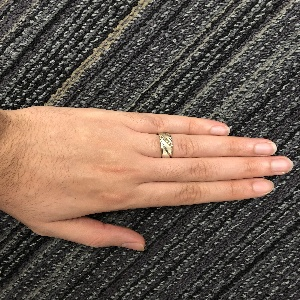hand: (11, 106, 294, 248)
